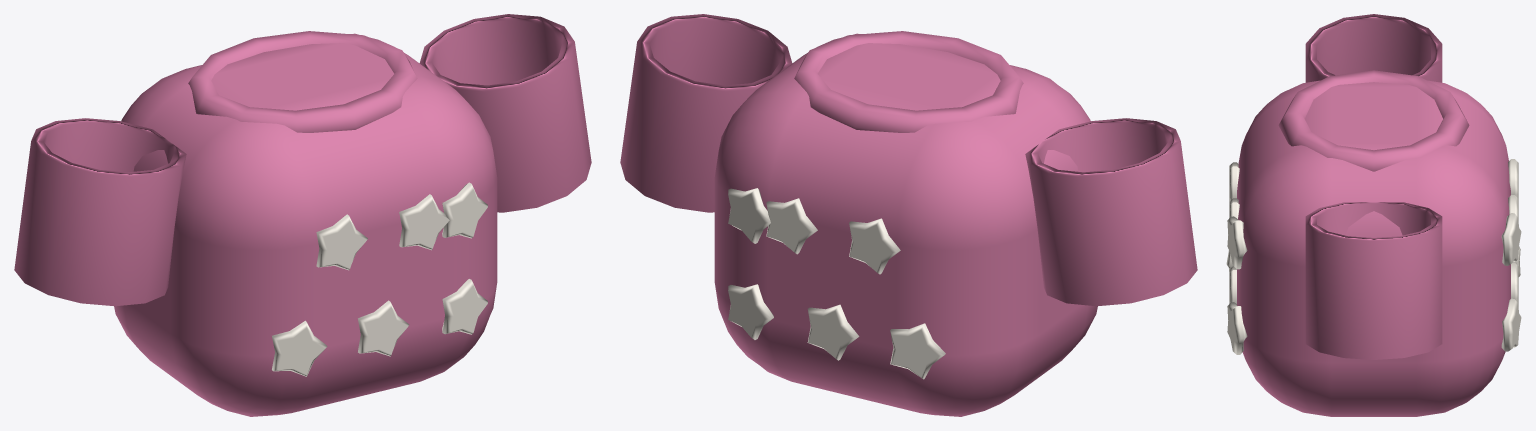
Rendered from blossom_tee.glb.
The picture shows the model from 3 angles, left to right: view 1: azimuth 30°, elevation 25°; view 2: azimuth 150°, elevation 25°; view 3: azimuth 270°, elevation 25°; orthographic projection. The views are drawn at different scales.
Visible parts, largest first — view 1: blossom_tee_Body, blossom_tee_ArmL, blossom_tee_ArmR; view 2: blossom_tee_Body, blossom_tee_ArmL, blossom_tee_ArmR; view 3: blossom_tee_Body, blossom_tee_ArmR, blossom_tee_ArmL.
Part boxes in pixels (left/top/right/bottom): blossom_tee_Body: left=114, top=31, right=497, bottom=416; blossom_tee_ArmL: left=14, top=118, right=186, bottom=306; blossom_tee_ArmR: left=419, top=14, right=591, bottom=212; blossom_tee_Body: left=714, top=31, right=1097, bottom=416; blossom_tee_ArmL: left=1025, top=118, right=1197, bottom=306; blossom_tee_ArmR: left=620, top=14, right=792, bottom=212; blossom_tee_Body: left=1226, top=70, right=1521, bottom=416; blossom_tee_ArmR: left=1305, top=202, right=1442, bottom=359; blossom_tee_ArmL: left=1305, top=14, right=1442, bottom=82.
Bounding box in the file's own units: 0.6053 × 0.3119 × 0.312.
